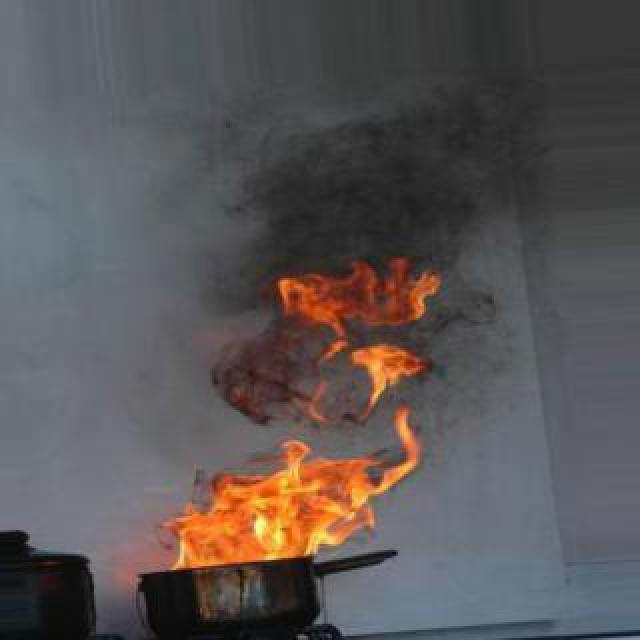Fire: (136, 426, 464, 566), (310, 260, 438, 420)
Smoke: (216, 94, 518, 284), (206, 308, 310, 424)
